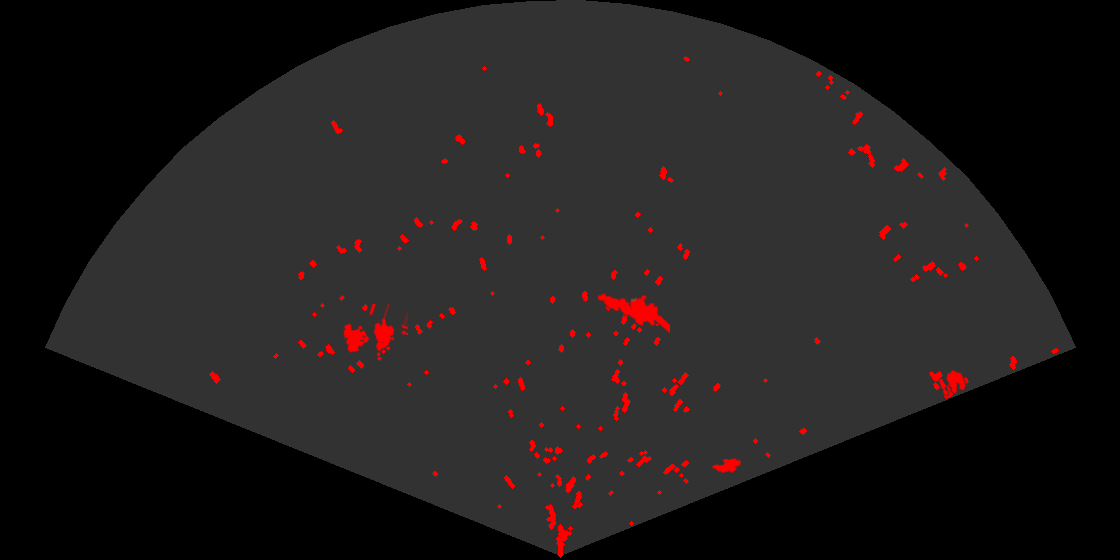AUV: (710, 456, 743, 473)
ball: (937, 369, 968, 397)
cage: (342, 304, 408, 358)
frogman: (596, 292, 670, 335)
